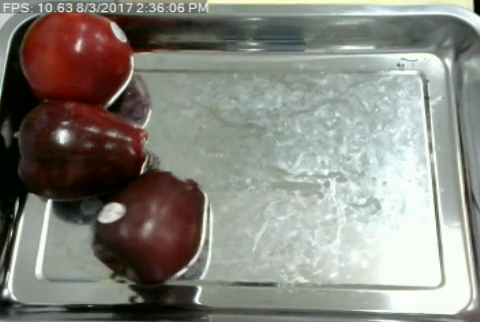Apple: (14, 96, 150, 205), (92, 167, 212, 286), (17, 6, 136, 109)
